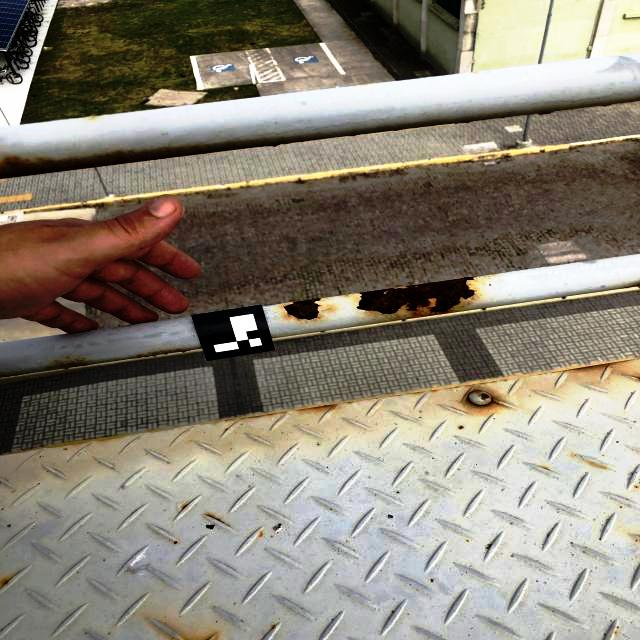Corrosion: (357, 277, 475, 314), (284, 299, 320, 320), (3, 154, 29, 175), (574, 363, 608, 372), (302, 404, 337, 412), (480, 393, 496, 402)
